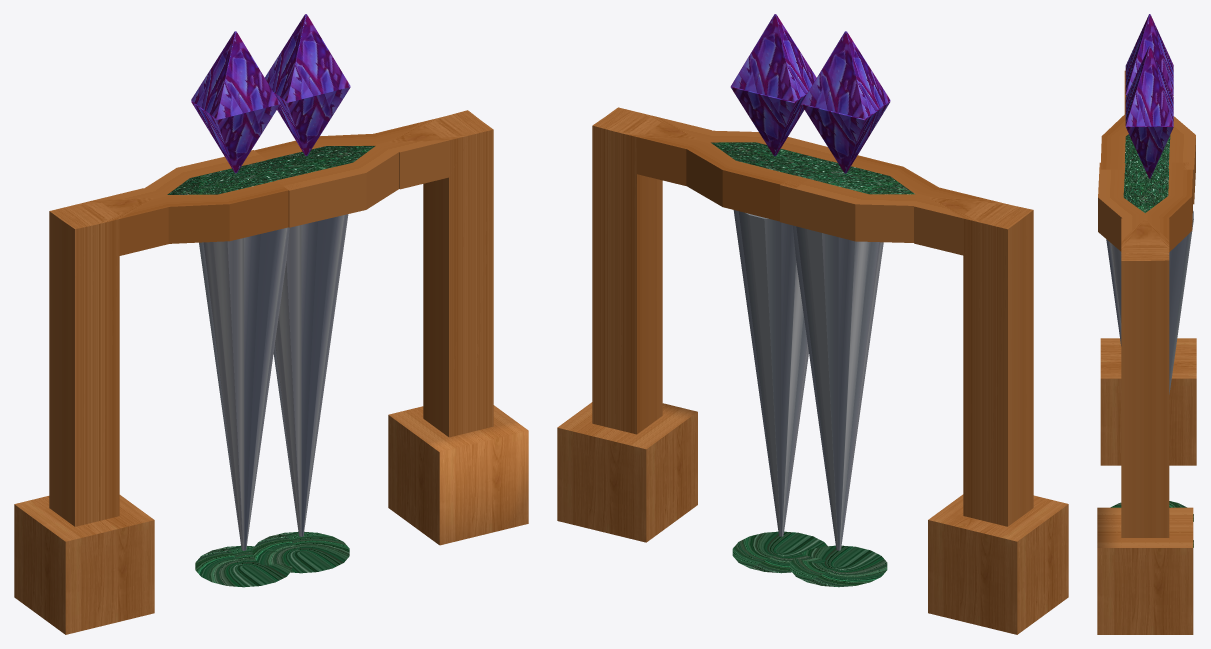
File: ExtractorNivel2.fbx
3 views of the same model, side by side, from view 1: azimuth 30°, elevation 25°; view 2: azimuth 150°, elevation 25°; view 3: azimuth 270°, elevation 25° (orthographic). The views are drawn at different scales.
Visible parts, largest first — view 1: Box012, Box007, Cylinder003, Cylinder012, Box010, Box023, Box009, Cylinder011, Cylinder004, Box008, Box024; view 2: Box012, Box007, Cylinder003, Cylinder012, Box010, Box023, Box009, Cylinder004, Cylinder011, Box008, Box024; view 3: Box007, Box012, Box023, Cylinder012, Box009, Box010, Box024.
Boxes of the visible parts, x1,y1,x2,y2 form: Box012: (14, 150, 300, 634); Box007: (255, 110, 528, 545); Cylinder003: (199, 227, 289, 550); Cylinder012: (273, 214, 348, 536); Box010: (191, 31, 279, 118); Box023: (265, 14, 350, 101); Box009: (167, 146, 375, 194); Cylinder011: (252, 532, 349, 573); Cylinder004: (195, 545, 292, 587); Box008: (191, 101, 280, 173); Box024: (273, 86, 350, 155); Box012: (780, 155, 1068, 634); Box007: (557, 107, 835, 542); Cylinder003: (792, 225, 883, 550); Cylinder012: (733, 210, 808, 536); Box010: (801, 31, 890, 118); Box023: (730, 14, 816, 101); Box009: (711, 142, 914, 194); Cylinder004: (790, 545, 887, 587); Cylinder011: (732, 531, 827, 573); Box008: (801, 101, 890, 173); Box024: (730, 86, 807, 156); Box007: (1097, 162, 1193, 634); Box012: (1100, 70, 1196, 465); Box023: (1125, 46, 1173, 126); Cylinder012: (1106, 211, 1193, 394); Box009: (1123, 134, 1170, 212); Box010: (1125, 14, 1173, 94); Box024: (1125, 126, 1173, 178).
Size of the model in its own units: 1.3 by 1.44 by 0.2589.
Materials: 4 (4 with a texture image).
